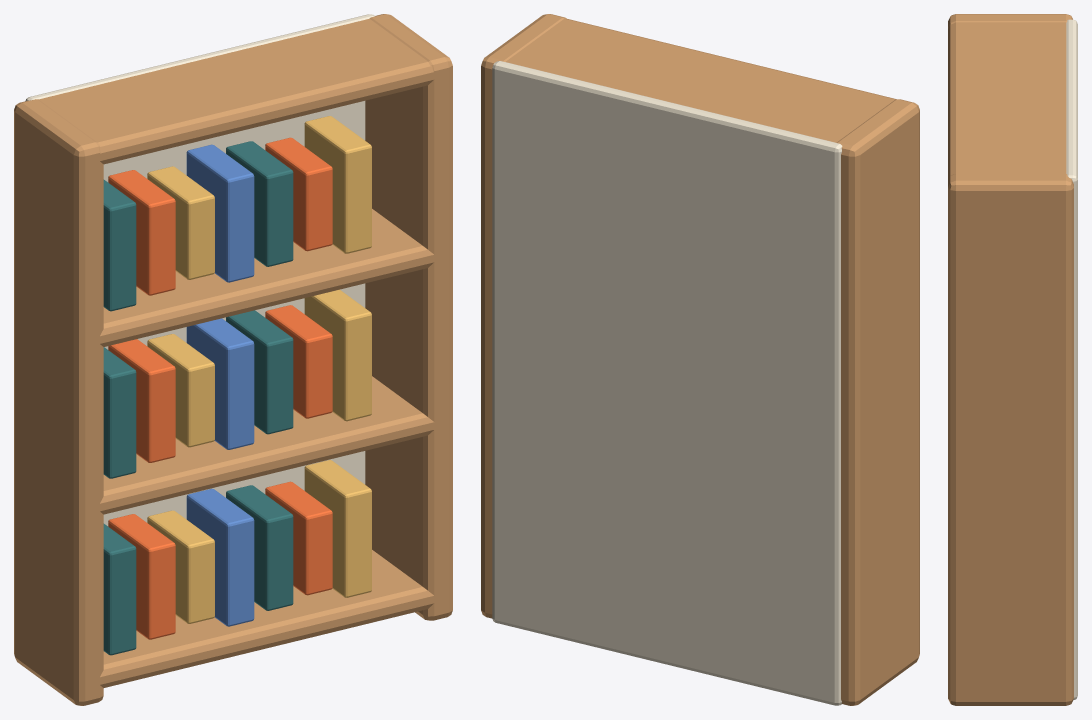
The model's file is bedroom_bookshelf.glb.
3 views of the same model, side by side, from view 1: azimuth 30°, elevation 25°; view 2: azimuth 150°, elevation 25°; view 3: azimuth 270°, elevation 25° (orthographic). The views are drawn at different scales.
Visible parts, largest first — view 1: bedroom_bookshelf_Mesh; view 2: bedroom_bookshelf_Mesh; view 3: bedroom_bookshelf_Mesh.
Boxes of the visible parts, x1,y1,x2,y2 form: bedroom_bookshelf_Mesh: (14,14,452,705); bedroom_bookshelf_Mesh: (481,14,919,705); bedroom_bookshelf_Mesh: (948,14,1077,705).
Size of the model in its own units: 1.3 by 1.84 by 0.4125.
